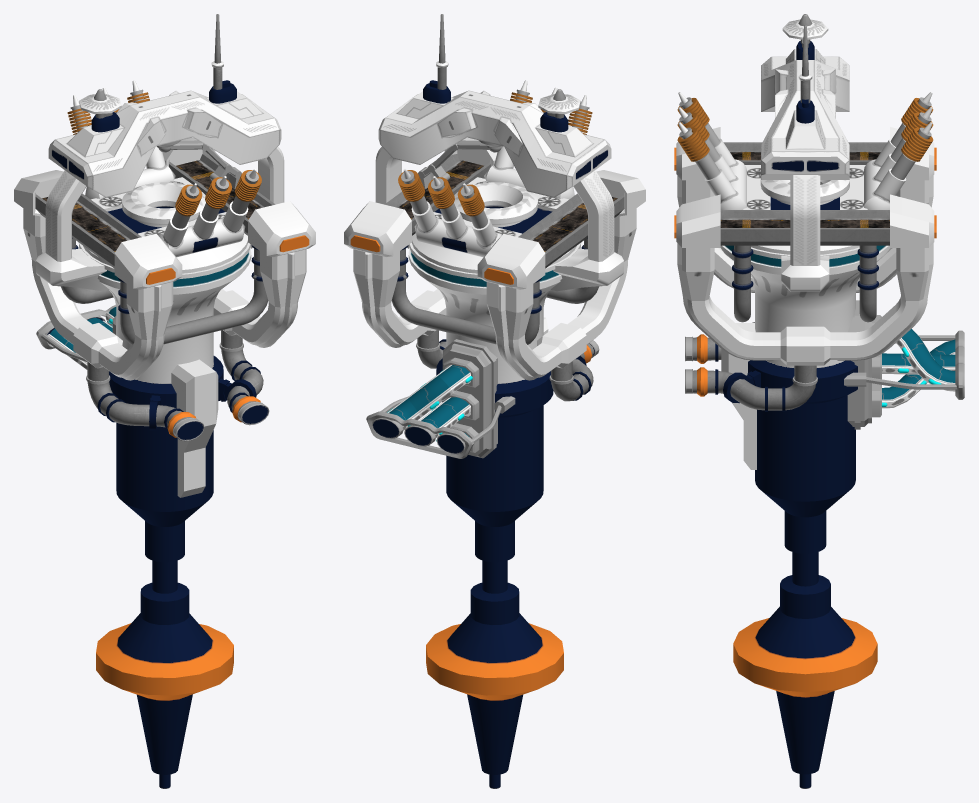
File: Manufacturer_Unity.fbx
3 renders of one model, left to right at view 1: azimuth 30°, elevation 25°; view 2: azimuth 150°, elevation 25°; view 3: azimuth 270°, elevation 25°, orthographic. The views are drawn at different scales.
Parts seen in each view (by area): view 1: Cylinder.184; view 2: Cylinder.184; view 3: Cylinder.184.
Boxes of the visible parts, bbox=[...] form: Cylinder.184: bbox=[14, 14, 315, 788]; Cylinder.184: bbox=[344, 14, 645, 788]; Cylinder.184: bbox=[674, 14, 964, 788].
Bounding box in the file's own units: 1504 × 4478 × 1497.
